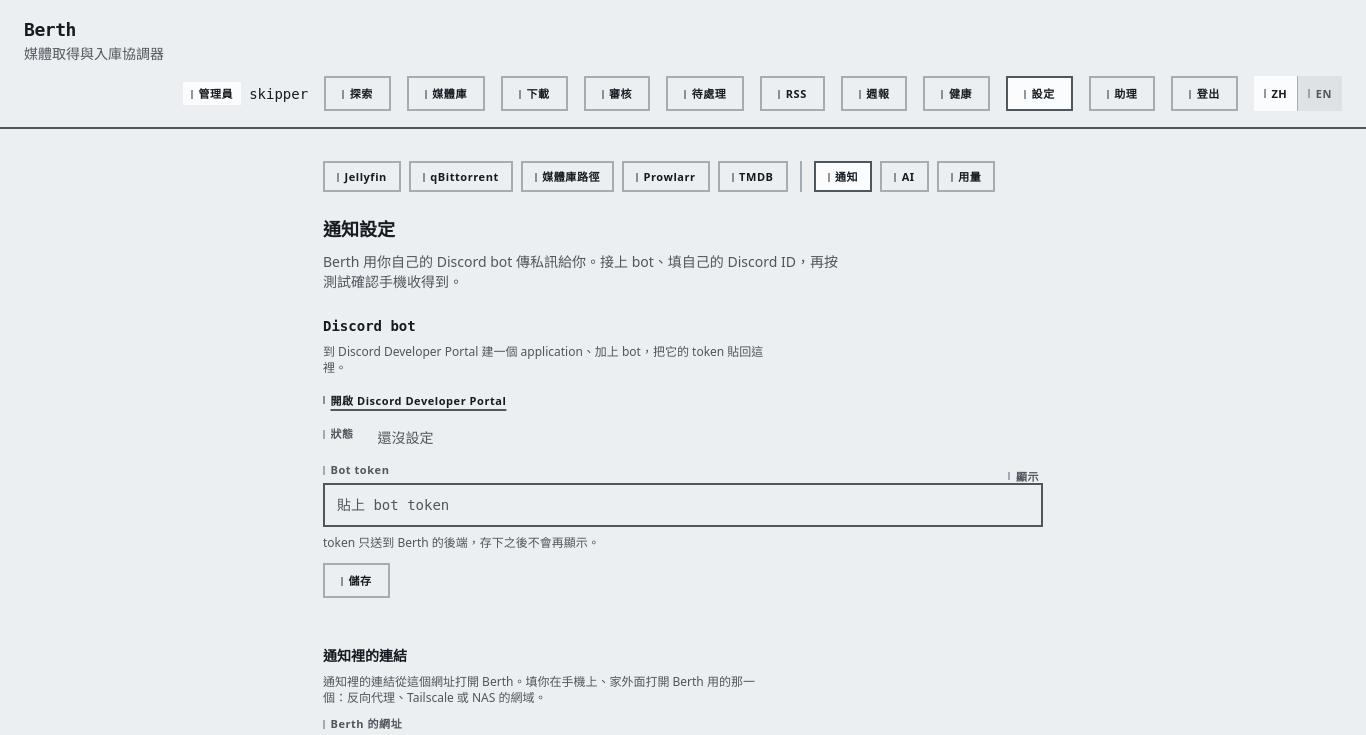
設定 → 通知 › 存 token：送出、欄位清空、快取換成回來的狀態
Type " good-token " into the password field labelled "Bot token" at (683, 505), box [323,483,1043,527]
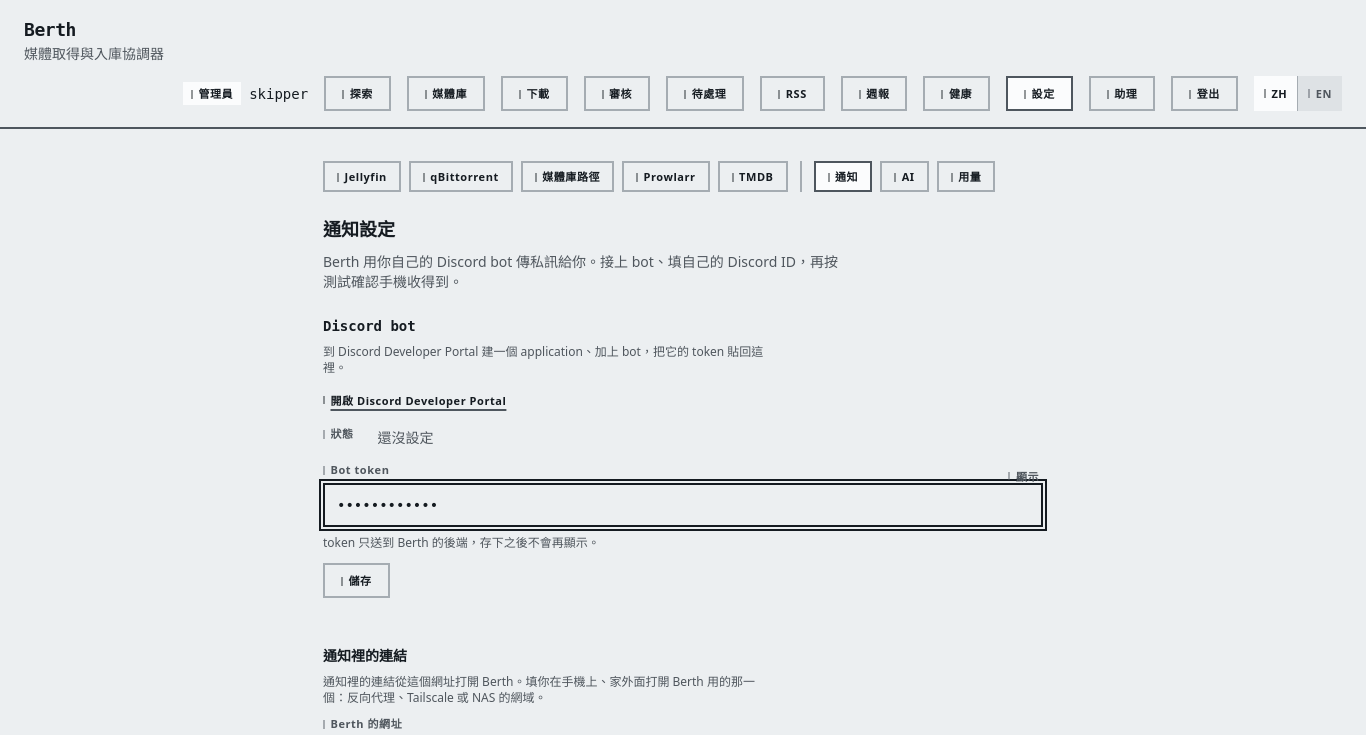
Click the button "儲存" at (356, 580), box [323,563,390,598]
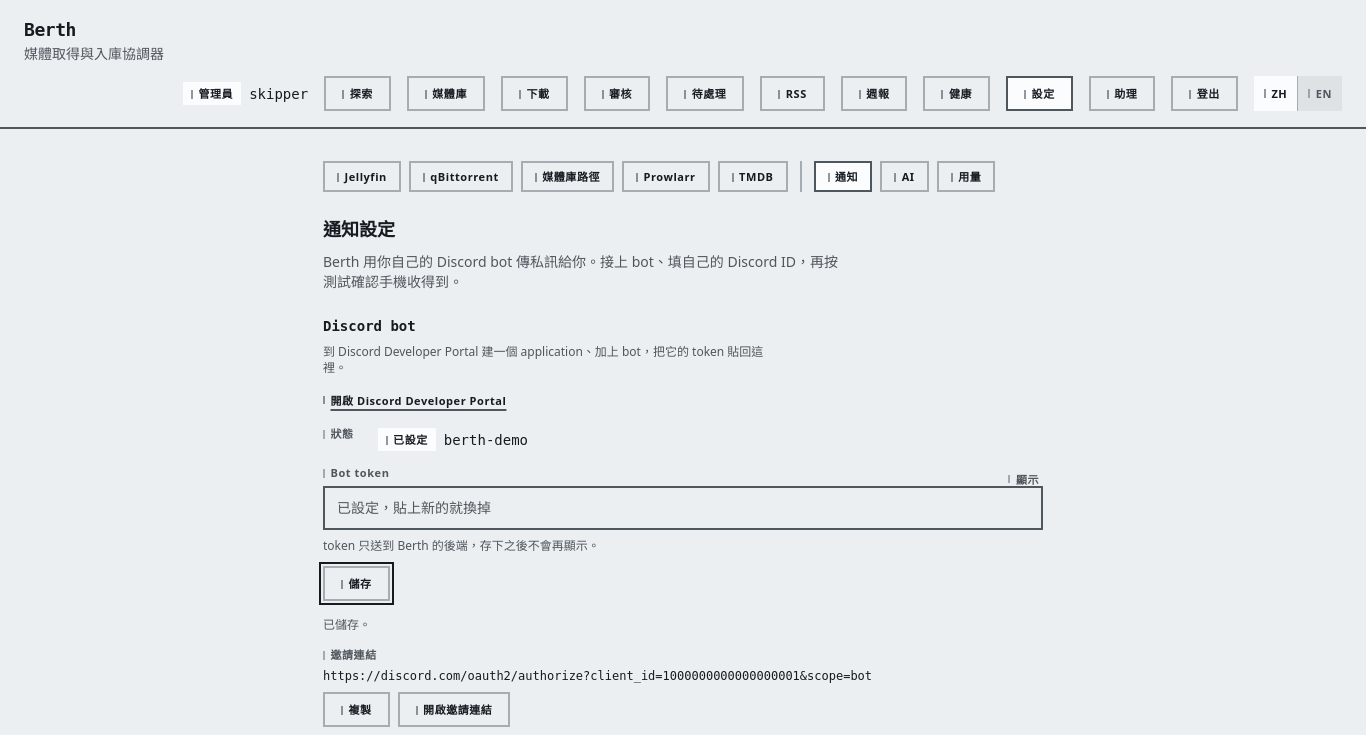
Expected: the text "berth-demo" is shown, [444,430,528,450]
Expected: the password field labelled "Bot token" is empty, [323,486,1043,530]
Expected: the text "已儲存。" is shown, [323,616,371,633]
